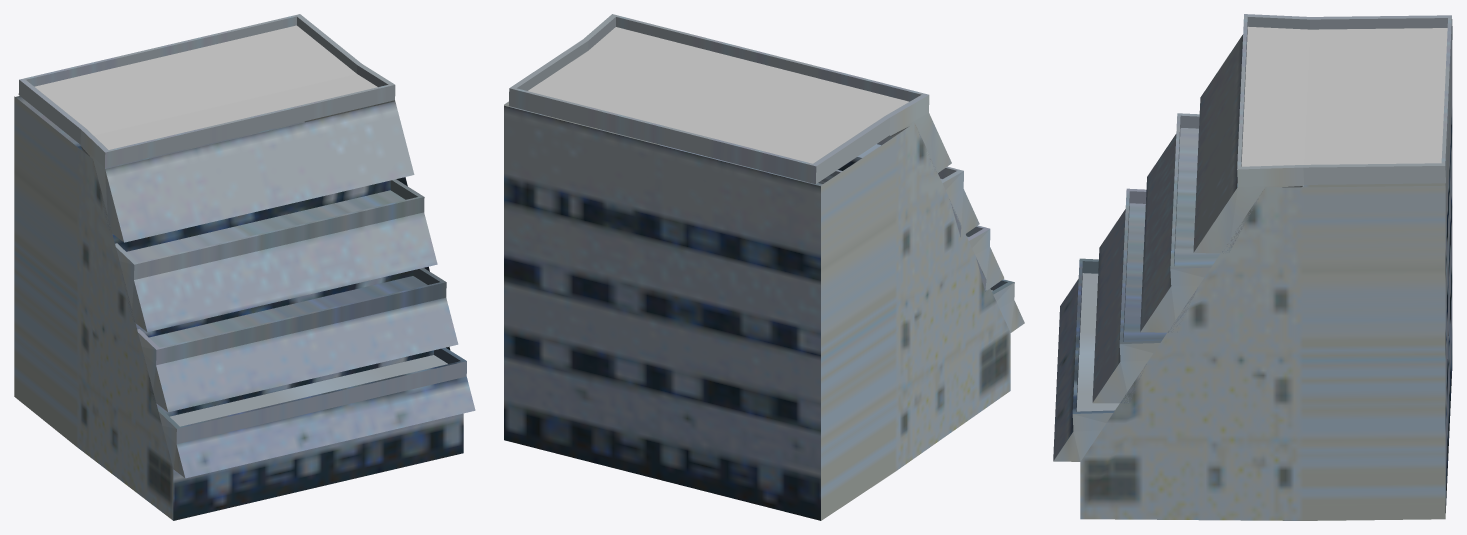
The model's file is yk_uudetrakennukset_jp4.fbx.
3 views of the same model, side by side, from view 1: azimuth 30°, elevation 25°; view 2: azimuth 150°, elevation 25°; view 3: azimuth 270°, elevation 25° (orthographic). The views are drawn at different scales.
Visible parts, largest first — view 1: Cube.011; view 2: Cube.011; view 3: Cube.011.
Part boxes in pixels (bbox=[...]): Cube.011: bbox=[14, 14, 475, 520]; Cube.011: bbox=[504, 14, 1024, 520]; Cube.011: bbox=[1053, 14, 1452, 520].
Size of the model in its own units: 485 by 504 by 516.
